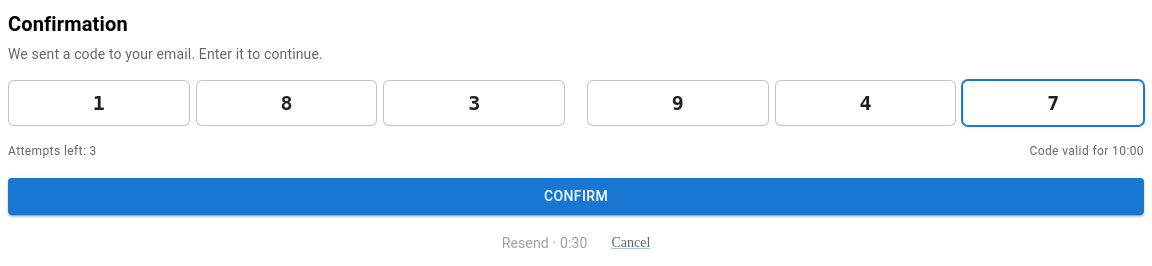
Scenario: ConfirmOperationNode: the server invalidated the operation › the screen collapses into a dead end carrying the server reason
This screenshot has width=1152, height=266.
What coordinates should you click on to do the following:
click the button "Confirm"
I would click on:
 (576, 196)
Its box is [8,178,1144,214].
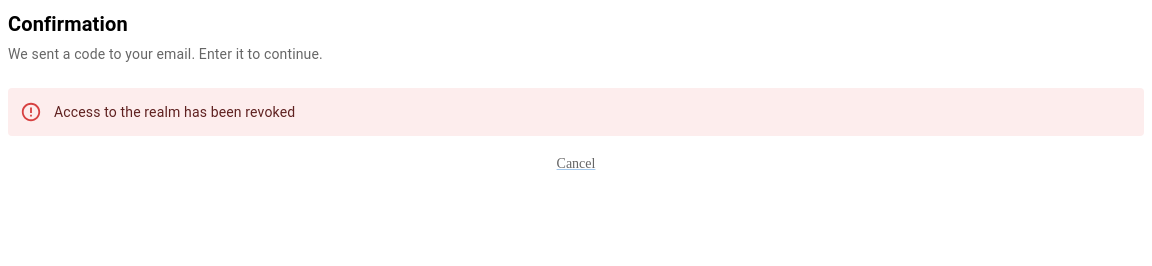
Check: the button "Cancel" is shown, box [557,156,596,172]
Check: the text "Access to the realm has been revoked" is shown, box [54,104,295,120]
